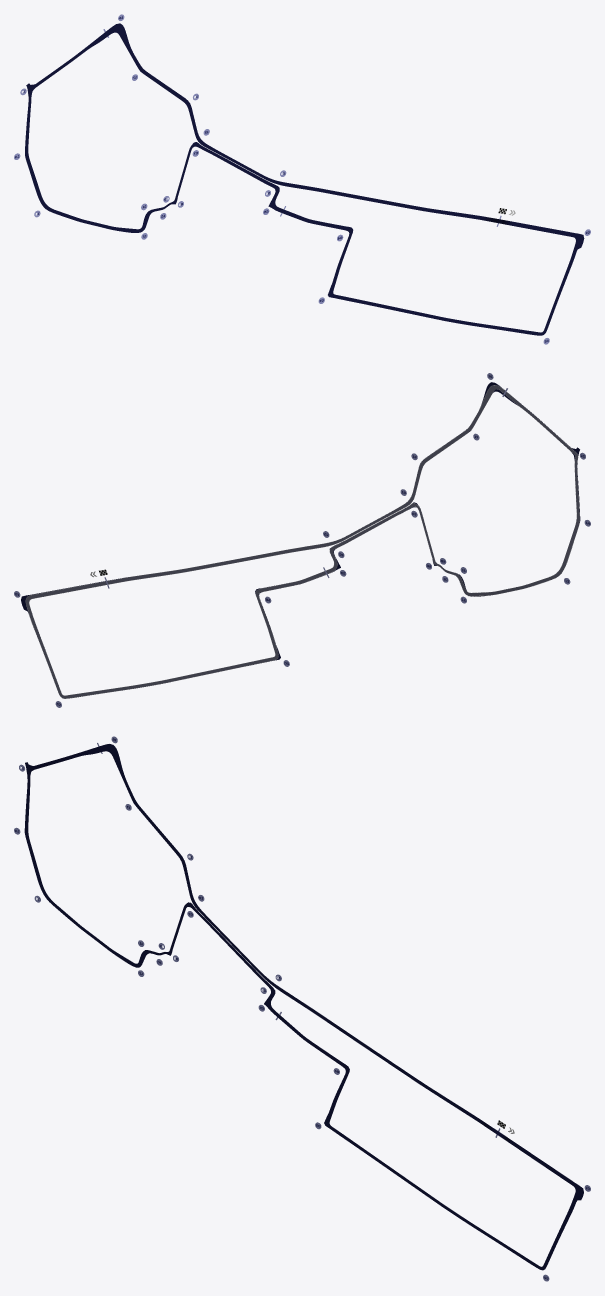
The model's file is baku.glb.
3 renders of one model, top to bottom at view 1: azimuth 30°, elevation 25°; view 2: azimuth 150°, elevation 25°; view 3: azimuth 330°, elevation 25°, orthographic.
Visible parts, largest first — view 1: runoff; view 2: tracklimit, whiteline, runoff; view 3: runoff.
Part boxes in pixels (x1,y1,x2,y2): runoff: (25, 23, 584, 335); tracklimit: (25, 385, 579, 698); whiteline: (25, 385, 579, 698); runoff: (21, 382, 580, 660); runoff: (24, 744, 583, 1270).
Size of the model in its own units: 2168 by 1568 by 26.6.
